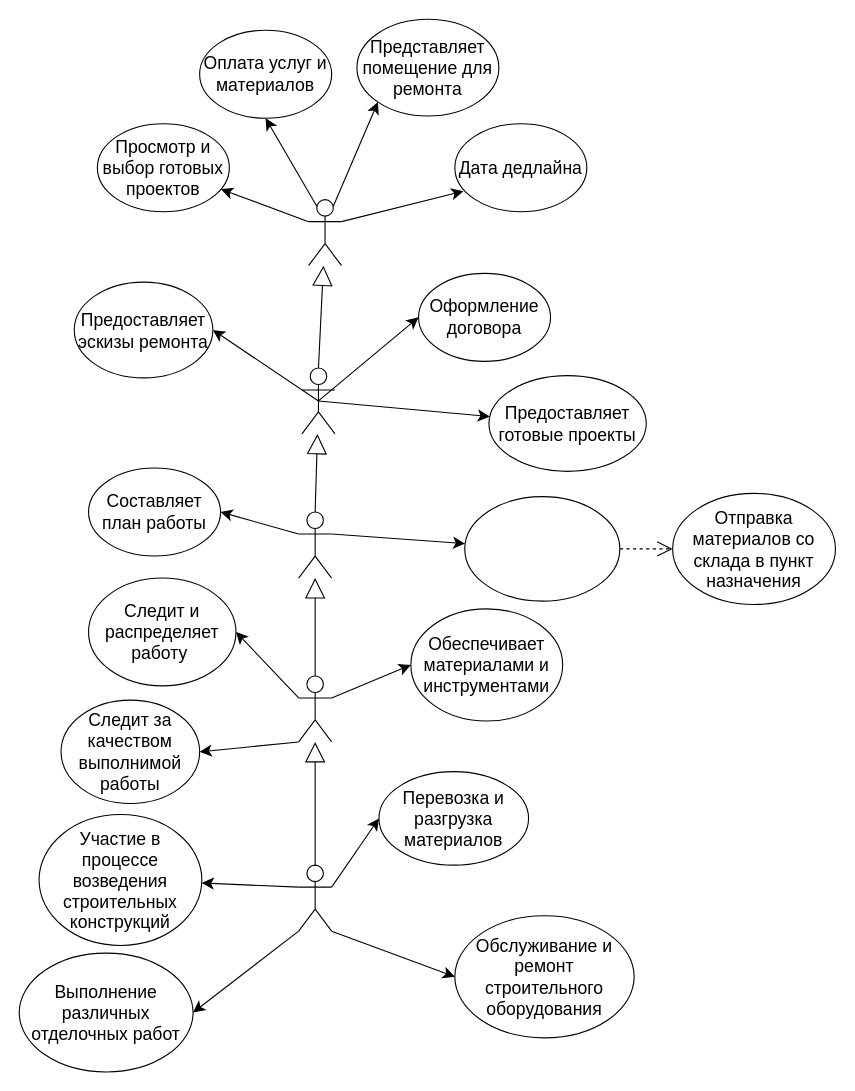
Image size: 855x1091. Some labels were removed from this diagram. The box of each missing label's shape, as (x1, y1, x2, y2) in pixels:
Бригадир: (298, 675, 332, 742)
Дата получения материалов: (464, 496, 620, 601)
Дизайнер ремонта: (301, 367, 335, 434)
Клиент: (307, 199, 342, 266)
Начальник: (298, 511, 332, 578)
Рабочий: (298, 864, 332, 931)
